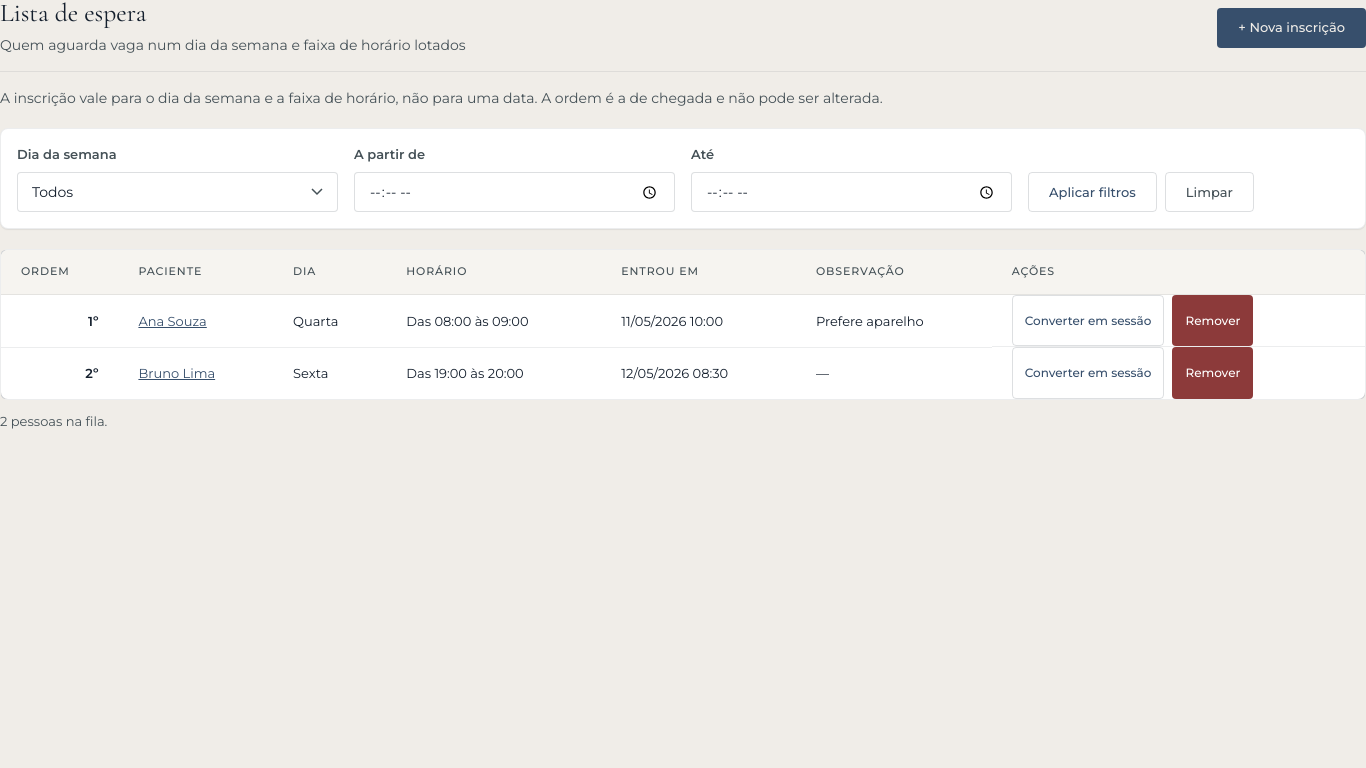
Scenario: ListaEsperaListComponent › remoção › should ask for confirmation before removing
Click the button with class "btn-danger" in the row of "1º" at [1213, 321], box left=1172, top=295, right=1253, bottom=346
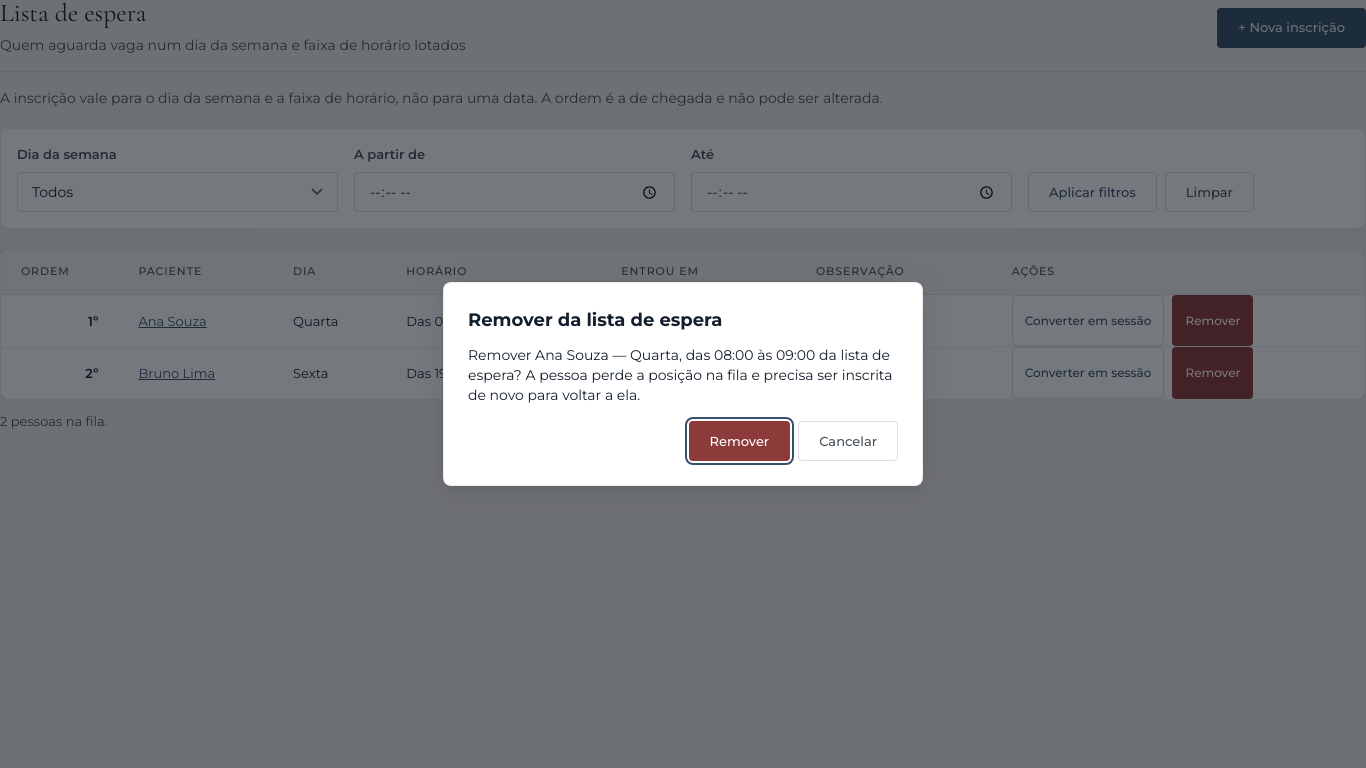
Check: the heading with class "dialog-title" reads "Remover da lista de espera", box left=468, top=308, right=722, bottom=330
Check: the text "Ana Souza — Quarta, das 08:00 às 09:00" is shown, box left=468, top=346, right=892, bottom=404
